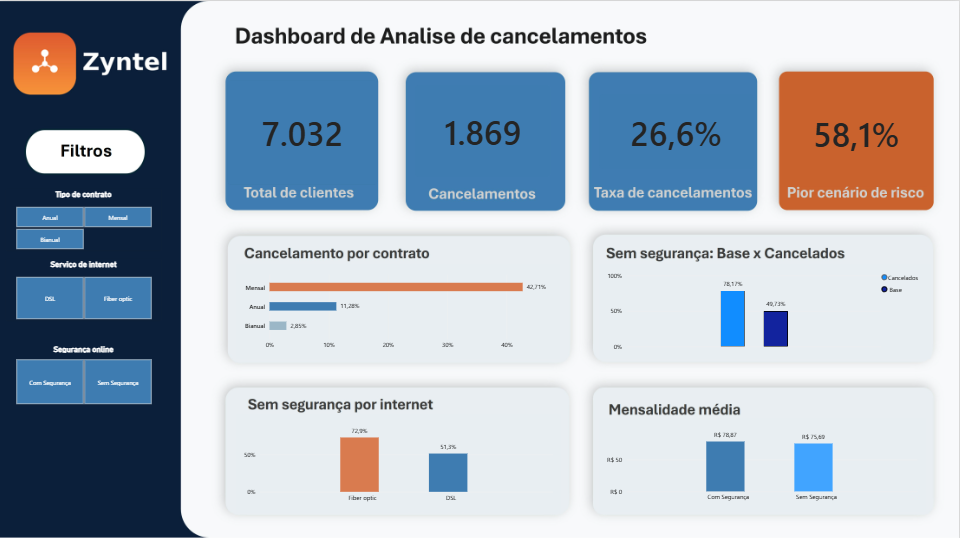

Layout of this report page (visuals, bound fields, positions):
{"tool":"powerbi","page":{"name":"Página 1","canvas":[1920,1080],"ordinal":0},"visuals":[{"type":"cardVisual","title":"Total de clientes","fields":{"Data":["telco_churn_tratado.Total de Clientes"]},"box":[455.3,157.9,302.6,210.5],"z":0},{"type":"cardVisual","title":"Cancelamentos","fields":{"Data":["Count(telco_churn_tratado.customerID)"]},"box":[831.6,168.4,271.1,184.2],"z":1000},{"type":"cardVisual","title":"Pior cenário de risco","fields":{"Data":["telco_churn_tratado.Taxa de Cancelamentos"]},"box":[1565,155.1,298.5,216],"z":3000},{"type":"barChart","title":"Cancelamento por Contrato","fields":{"Category":["telco_churn_tratado.Tipo_Contrato"],"Y":["telco_churn_tratado.Taxa de Cancelamentos"]},"box":[473.3,526.7,648.3,190],"z":4000},{"type":"clusteredColumnChart","title":"Sem Segurança: Base x Cancelados","fields":{"Y":["telco_churn_tratado.% Sem Seguranca Cancelados","telco_churn_tratado.% Sem Seguranca Base"]},"box":[1200,526.7,663.3,190],"z":5000},{"type":"columnChart","title":"Sem Segurança, por Internet","fields":{"Category":["telco_churn_tratado.Servico_Internet"],"Y":["telco_churn_tratado.% Sem Seguranca"]},"box":[473.3,825.6,650,196.7],"z":6000},{"type":"clusteredColumnChart","title":"Mensalidade média","fields":{"Category":["telco_churn_tratado.Seguranca_Online"],"Y":["telco_churn_tratado.Mensalidade Média"]},"box":[1200,834.4,653.3,187.8],"z":7000},{"type":"slicer","title":"Tipo de contrato","fields":{"Values":["telco_churn_tratado.Tipo_Contrato"]},"box":[13.2,375.8,310,122],"z":8000},{"type":"slicer","title":"Serviço de internet","fields":{"Values":["telco_churn_tratado.Servico_Internet"]},"box":[13.2,515.8,310,122],"z":9000},{"type":"slicer","title":"Segurança online","fields":{"Values":["telco_churn_tratado.Seguranca_Online"]},"box":[13.2,687,310,122],"z":10000},{"type":"cardVisual","fields":{"Data":["Medidas.Taxa de Cancelamentos"]},"box":[1199.6,186.9,310,150],"z":10001}]}

Visuals, with their boxes in screenshot pixels (x1, y1, x2, y2), scaled from the page's 1920x1080 canvas onto the 960x538 screenshot:
"Total de clientes" cardVisual: <region>228, 79, 379, 184</region>
"Cancelamentos" cardVisual: <region>416, 84, 551, 176</region>
"Pior cenário de risco" cardVisual: <region>782, 77, 932, 185</region>
"Cancelamento por Contrato" barChart: <region>237, 262, 561, 357</region>
"Sem Segurança: Base x Cancelados" clusteredColumnChart: <region>600, 262, 932, 357</region>
"Sem Segurança, por Internet" columnChart: <region>237, 411, 562, 509</region>
"Mensalidade média" clusteredColumnChart: <region>600, 416, 927, 509</region>
"Tipo de contrato" slicer: <region>7, 187, 162, 248</region>
"Serviço de internet" slicer: <region>7, 257, 162, 318</region>
"Segurança online" slicer: <region>7, 342, 162, 403</region>
cardVisual - Medidas.Taxa de Cancelamentos: <region>600, 93, 755, 168</region>
